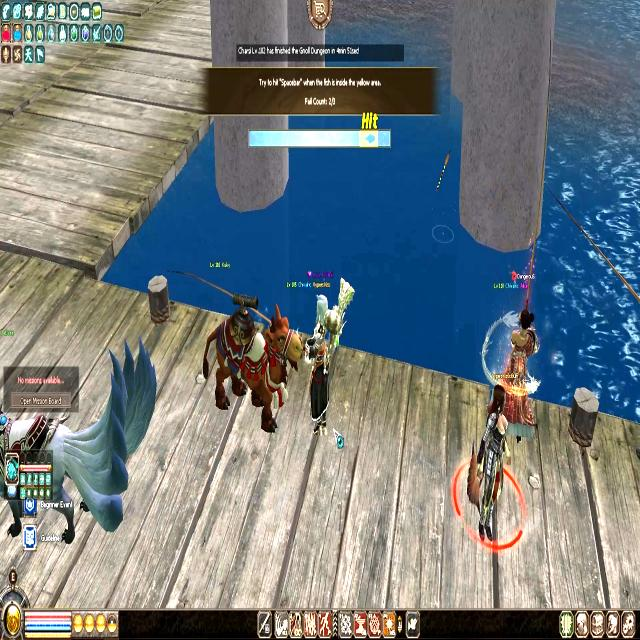fishes: (363, 132, 377, 145)
